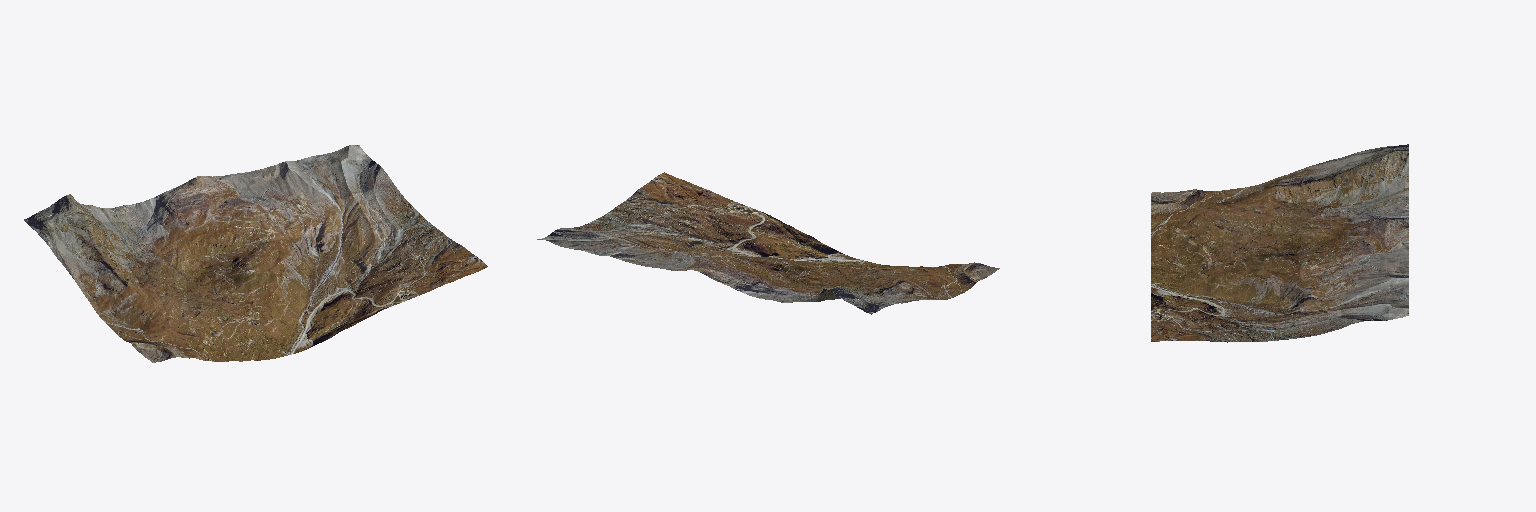
The picture shows the model from 3 angles: view 1: azimuth 30°, elevation 25°; view 2: azimuth 150°, elevation 25°; view 3: azimuth 270°, elevation 25°; orthographic projection.
Visible parts, largest first — view 1: EXPORT_GOOGLE_SAT_WM.008; view 2: EXPORT_GOOGLE_SAT_WM.008; view 3: EXPORT_GOOGLE_SAT_WM.008.
Part boxes in pixels (x1,y1,x2,y2): EXPORT_GOOGLE_SAT_WM.008: (24,145,487,362); EXPORT_GOOGLE_SAT_WM.008: (537,172,999,314); EXPORT_GOOGLE_SAT_WM.008: (1151,144,1408,342).
Bounding box in the file's own units: 4562 × 1150 × 3041.
Materials: 1 (1 with a texture image).